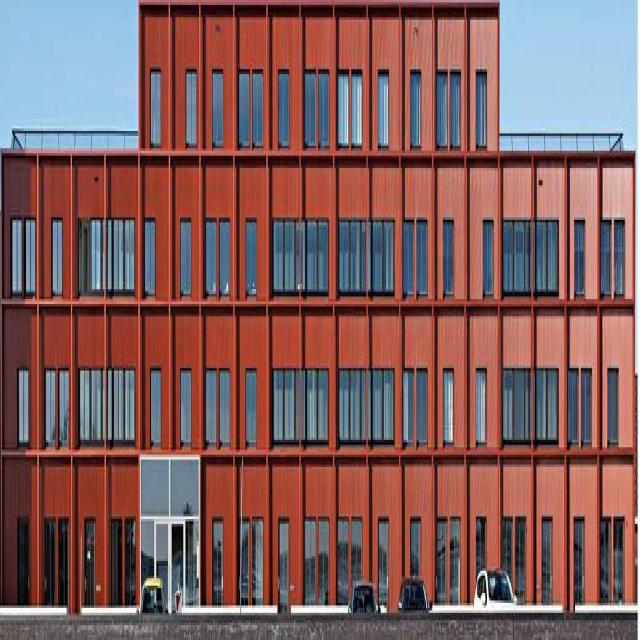Railing: (501, 123, 627, 154), (11, 127, 138, 149)
door: (140, 459, 199, 604)
wall: (1, 9, 635, 614)
windows: (501, 216, 559, 299), (274, 368, 328, 445), (341, 368, 396, 440), (340, 219, 394, 291), (503, 370, 557, 439), (304, 516, 330, 607), (237, 520, 264, 606), (273, 219, 304, 289), (338, 515, 362, 603), (78, 220, 104, 294), (108, 369, 134, 442), (107, 219, 134, 289), (80, 368, 104, 444), (568, 370, 591, 445), (404, 220, 427, 294), (307, 218, 329, 294), (405, 369, 427, 445), (111, 516, 123, 605), (245, 217, 258, 297), (126, 516, 137, 605), (59, 520, 70, 609), (245, 368, 257, 449), (212, 70, 224, 147), (186, 70, 198, 146), (279, 519, 289, 608), (442, 368, 454, 442), (477, 370, 489, 444), (574, 222, 584, 298), (238, 72, 248, 148), (252, 70, 262, 146), (278, 70, 288, 146), (338, 73, 348, 149), (352, 74, 362, 150), (378, 72, 388, 148), (410, 76, 420, 152), (450, 75, 460, 151), (220, 368, 230, 443), (608, 366, 618, 441), (615, 524, 625, 599), (573, 521, 583, 596), (515, 517, 525, 592), (411, 521, 421, 596), (378, 522, 388, 597), (306, 73, 316, 148), (320, 73, 330, 148), (437, 73, 447, 148), (476, 73, 486, 148), (12, 218, 22, 292), (444, 226, 454, 300), (485, 224, 495, 298), (451, 520, 461, 594), (85, 519, 94, 600), (601, 222, 610, 298), (437, 522, 446, 598), (151, 70, 160, 146), (19, 371, 28, 446), (145, 220, 154, 295), (220, 220, 229, 295), (206, 371, 215, 446), (616, 221, 625, 296), (602, 524, 611, 599), (543, 521, 552, 596), (502, 518, 511, 593), (476, 524, 485, 599), (26, 220, 35, 294), (19, 530, 28, 604), (46, 369, 55, 443), (182, 220, 191, 294), (206, 220, 215, 294), (151, 365, 160, 439), (46, 517, 54, 598), (54, 220, 62, 294), (60, 369, 68, 443), (182, 373, 190, 447), (214, 520, 222, 594)
